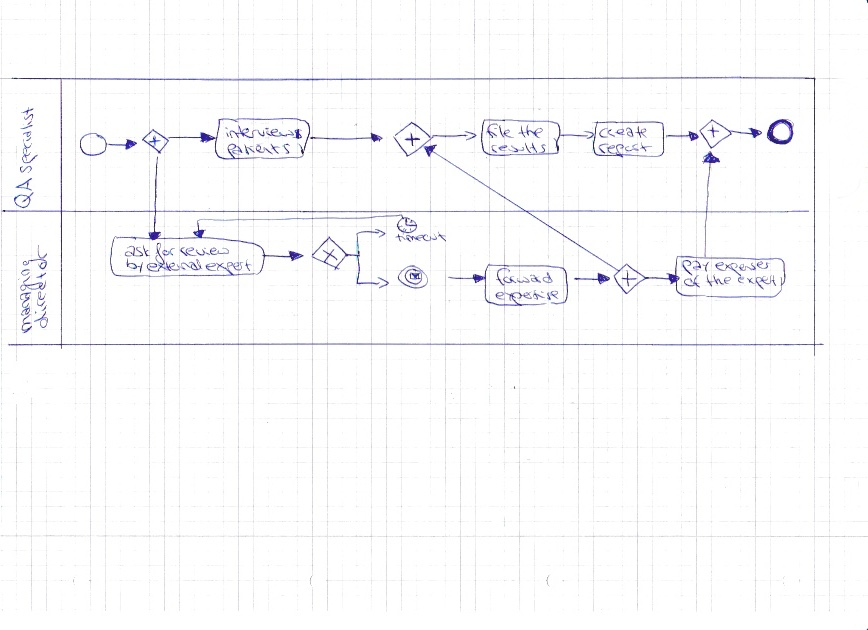Patients: (223, 140, 295, 162)
QA: (9, 173, 39, 213)
ask: (121, 241, 154, 261)
by: (122, 254, 148, 277)
create: (595, 123, 652, 142)
director: (24, 241, 54, 332)
expenses: (711, 258, 775, 279)
expert: (202, 257, 255, 278), (734, 272, 781, 294)
expertise: (490, 285, 564, 309)
external: (142, 256, 206, 276)
file: (482, 120, 519, 143)
for: (150, 240, 179, 268)
forward: (491, 266, 557, 290)
interview: (220, 121, 299, 144)
managing: (14, 254, 36, 338)
of: (680, 272, 704, 292)
pay: (677, 257, 714, 280)
report: (595, 140, 657, 161)
results: (485, 140, 551, 156)
review: (176, 242, 234, 261)
specialist: (14, 103, 43, 179)
the: (514, 121, 549, 142), (701, 271, 736, 290)
timeout: (392, 227, 450, 245)
